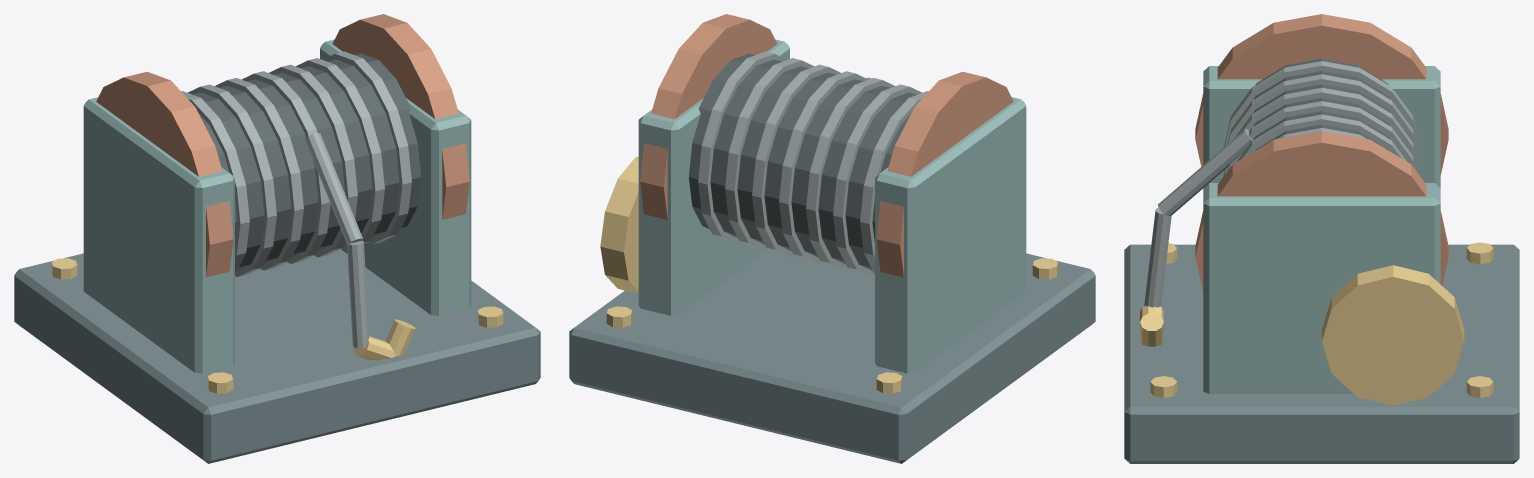
The model's file is salvage_winch.glb.
The picture shows the model from 3 angles, left to right: view 1: azimuth 30°, elevation 25°; view 2: azimuth 150°, elevation 25°; view 3: azimuth 270°, elevation 25°; orthographic projection.
Parts seen in each view (by area): view 1: salvage_winch; view 2: salvage_winch; view 3: salvage_winch.
Boxes of the visible parts, x1,y1,x2,y2 form: salvage_winch: (14,14,540,463); salvage_winch: (569,14,1095,463); salvage_winch: (1124,14,1519,463).
Bounding box in the file's own units: 1 × 0.85 × 1.
